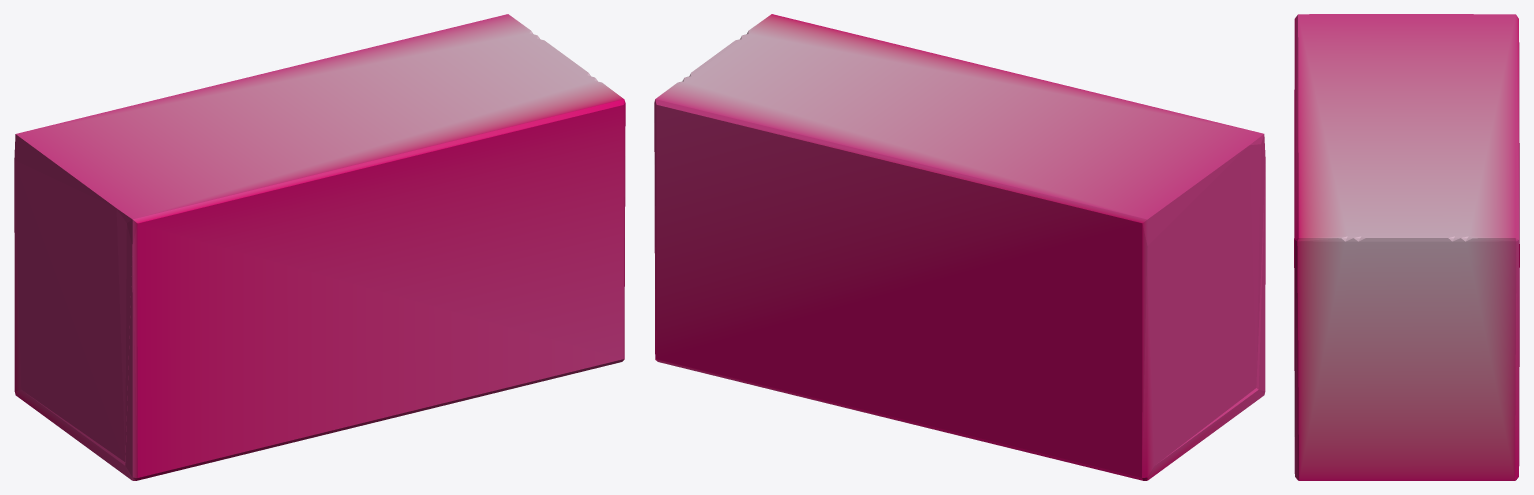
File: Container(4).glb
3 renders of one model, left to right at view 1: azimuth 30°, elevation 25°; view 2: azimuth 150°, elevation 25°; view 3: azimuth 270°, elevation 25°, orthographic. The views are drawn at different scales.
Visible parts, largest first — view 1: Root; view 2: Root; view 3: Root.
Boxes of the visible parts, x1,y1,x2,y2 form: Root: (14,14,625,480); Root: (654,14,1265,480); Root: (1294,14,1519,480).
Bounding box in the file's own units: 3.49 × 1.77 × 1.48.
